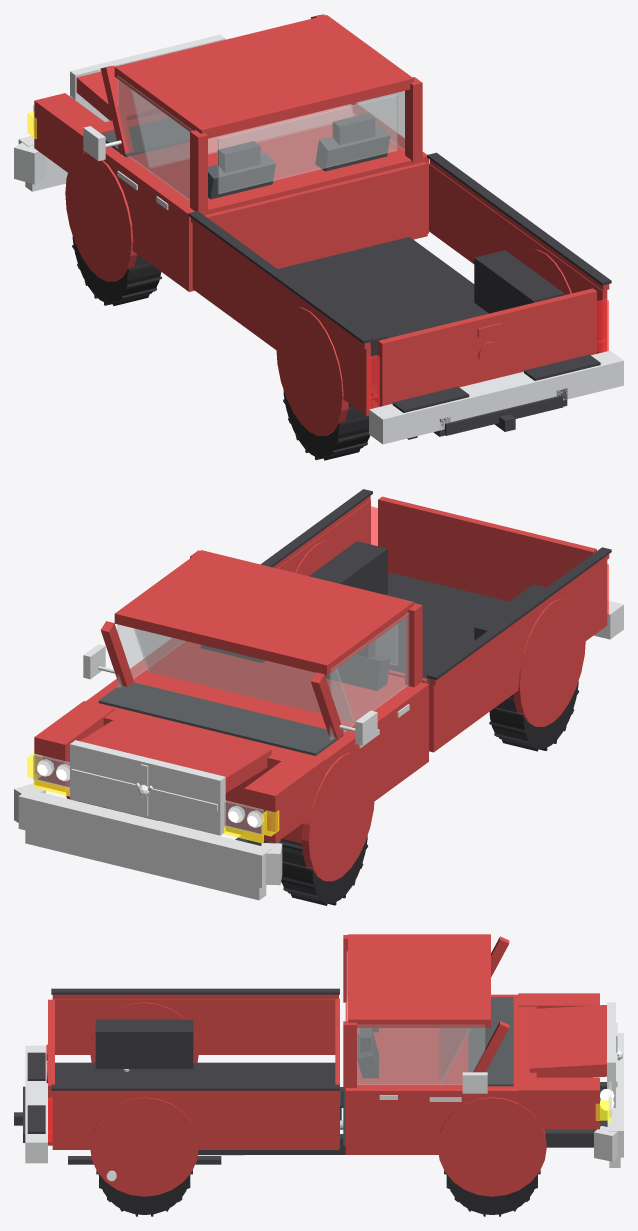
Rendered from Car_Dodge_Ram_1500_2000s_Complete.glb.
The picture shows the model from 3 angles, top to bottom: view 1: azimuth 30°, elevation 25°; view 2: azimuth 150°, elevation 25°; view 3: azimuth 270°, elevation 25°; orthographic projection. The views are drawn at different scales.
Parts seen in each view (by area): view 1: BODY_Ram_BigRig_Cab_And_Hood, BODY_Fleetside_Cargo_Bed, BODY_Bedliner_And_Rail_Caps, GLASS_Cab_Greenhouse_Windows, BODY_Tailgate_And_Latch, BUMPERS_Rear_Chrome_Step_Bumper, INTERIOR_40_20_40_Bench_Seats, WHEELS_275_55R20_Goodyear_Tires, CHASSIS_Hydroformed_Ladder_Frame, BUMPERS_Rear_Step_Tread_Pads, BUMPERS_Front_Chrome_Bumper, INTERIOR_Dashboard_And_Wheel (+3 smaller); view 2: BODY_Ram_BigRig_Cab_And_Hood, BODY_Fleetside_Cargo_Bed, BUMPERS_Front_Chrome_Bumper, GLASS_Cab_Greenhouse_Windows, BODY_Bedliner_And_Rail_Caps, BODY_Tailgate_And_Latch, EXTERIOR_Chrome_Crosshair_Grille, INTERIOR_Dashboard_And_Wheel, WHEELS_275_55R20_Goodyear_Tires, INTERIOR_40_20_40_Bench_Seats, LIGHTS_Quad_Headlamp_Lenses, EXTERIOR_Chrome_Towing_Mirrors_And_Handles (+3 smaller); view 3: BODY_Ram_BigRig_Cab_And_Hood, BODY_Fleetside_Cargo_Bed, BODY_Bedliner_And_Rail_Caps, GLASS_Cab_Greenhouse_Windows, WHEELS_275_55R20_Goodyear_Tires, INTERIOR_Dashboard_And_Wheel, CHASSIS_Hydroformed_Ladder_Frame, BUMPERS_Front_Chrome_Bumper, BUMPERS_Rear_Chrome_Step_Bumper, BUMPERS_Rear_Step_Tread_Pads, INTERIOR_40_20_40_Bench_Seats, BODY_Tailgate_And_Latch (+3 smaller).
Part boxes in pixels (x1,y1,x2,y2): BODY_Ram_BigRig_Cab_And_Hood: (34, 14, 428, 291); BODY_Fleetside_Cargo_Bed: (191, 159, 609, 435); BODY_Bedliner_And_Rail_Caps: (188, 152, 611, 402); GLASS_Cab_Greenhouse_Windows: (117, 76, 404, 200); BODY_Tailgate_And_Latch: (378, 288, 596, 406); BUMPERS_Rear_Chrome_Step_Bumper: (369, 350, 623, 444); INTERIOR_40_20_40_Bench_Seats: (208, 113, 390, 199); WHEELS_275_55R20_Goodyear_Tires: (72, 236, 372, 460); CHASSIS_Hydroformed_Ladder_Frame: (433, 388, 567, 436); BUMPERS_Rear_Step_Tread_Pads: (392, 354, 600, 412); BUMPERS_Front_Chrome_Bumper: (14, 136, 67, 191); INTERIOR_Dashboard_And_Wheel: (102, 118, 189, 157); BODY_Ram_BigRig_Cab_And_Hood: (34, 550, 428, 881); BODY_Fleetside_Cargo_Bed: (273, 496, 609, 752); BUMPERS_Front_Chrome_Bumper: (14, 783, 282, 900); GLASS_Cab_Greenhouse_Windows: (117, 612, 408, 740); BODY_Bedliner_And_Rail_Caps: (260, 489, 611, 683); BODY_Tailgate_And_Latch: (378, 496, 596, 601); EXTERIOR_Chrome_Crosshair_Grille: (70, 740, 225, 835); INTERIOR_Dashboard_And_Wheel: (98, 682, 343, 755); WHEELS_275_55R20_Goodyear_Tires: (78, 681, 578, 905); INTERIOR_40_20_40_Bench_Seats: (200, 641, 390, 690); LIGHTS_Quad_Headlamp_Lenses: (33, 754, 264, 835); EXTERIOR_Chrome_Towing_Mirrors_And_Handles: (83, 644, 409, 745); BODY_Ram_BigRig_Cab_And_Hood: (343, 934, 606, 1196); BODY_Fleetside_Cargo_Bed: (52, 994, 339, 1196); BODY_Bedliner_And_Rail_Caps: (51, 988, 339, 1090); GLASS_Cab_Greenhouse_Windows: (346, 951, 485, 1084); WHEELS_275_55R20_Goodyear_Tires: (96, 1170, 540, 1216); INTERIOR_Dashboard_And_Wheel: (468, 997, 513, 1086); CHASSIS_Hydroformed_Ladder_Frame: (14, 1082, 607, 1154); BUMPERS_Front_Chrome_Bumper: (594, 1033, 623, 1167); BUMPERS_Rear_Chrome_Step_Bumper: (25, 1045, 47, 1163); BUMPERS_Rear_Step_Tread_Pads: (27, 1052, 45, 1133); INTERIOR_40_20_40_Bench_Seats: (357, 1028, 378, 1078); BODY_Tailgate_And_Latch: (46, 999, 54, 1145).
Bounding box in the file's own units: 2.34 × 1.86 × 5.37.
